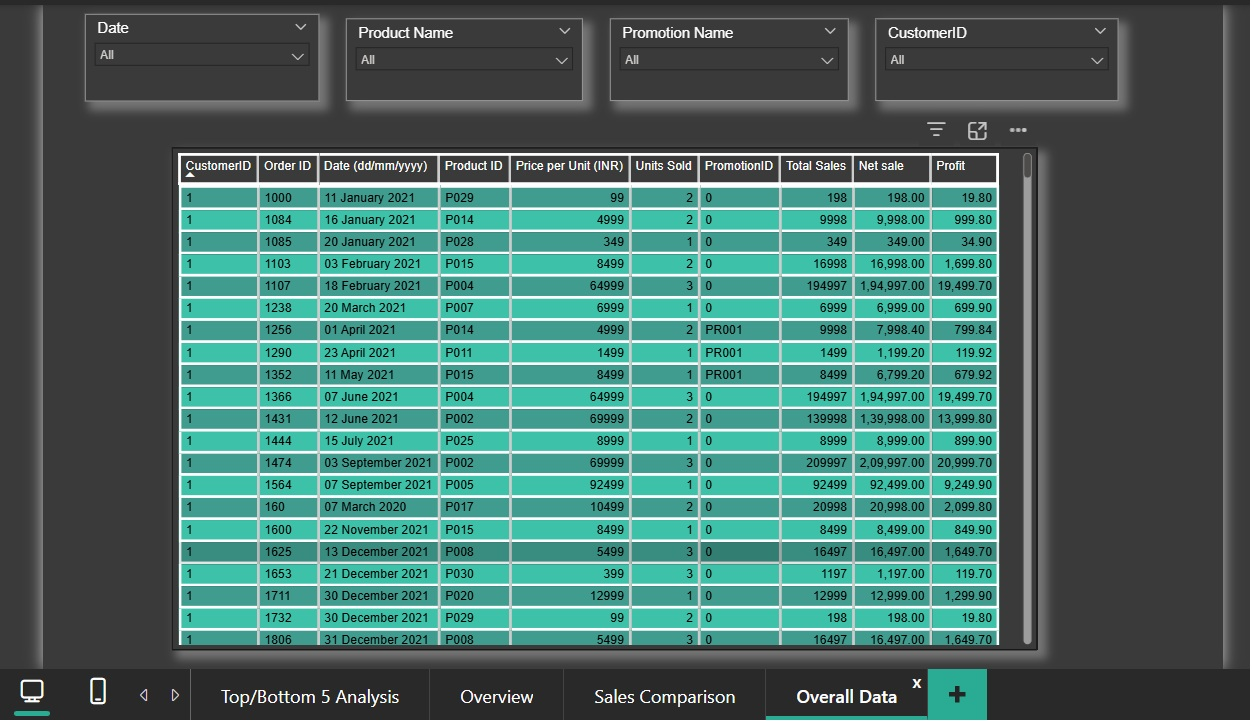

Layout of this report page (visuals, bound fields, positions):
{"tool":"powerbi","page":{"name":"Overall Data","canvas":[1280,720],"ordinal":3},"visuals":[{"type":"tableEx","fields":{"Values":["Fact Data.CustomerID","Fact Data.Order ID","Fact Data.Date (dd/mm/yyyy)","Fact Data.Product ID","Fact Data.Price per Unit (INR)","Fact Data.Units Sold","Fact Data.PromotionID","Fact Data.Total Sales","Fact Data.Net sale ","Fact Data.Profit"]},"box":[139.9,154.5,938.5,544.9],"z":0},{"type":"slicer","fields":{"Values":["Date Table 1.Date"]},"box":[45.5,9.8,253.7,94.3],"z":1000},{"type":"slicer","fields":{"Values":["Dim Product.Product Name"]},"box":[328.6,14.6,257,89.5],"z":2000},{"type":"slicer","fields":{"Values":["Dim Promotion.Promotion Name"]},"box":[614.8,14.6,258.6,89.5],"z":3000},{"type":"slicer","fields":{"Values":["Fact Data.CustomerID"]},"box":[902.7,14.6,263.5,89.5],"z":4000}]}

Visuals, with their boxes on the page's 1280x720 design canvas (x1, y1, x2, y2). These are canvas units, not pixel positions in the 1252x722 screenshot, which may show the page scaled, cropped or inside an application window:
tableEx - Fact Data.CustomerID x Fact Data.Order ID: [x1=140, y1=154, x2=1078, y2=699]
slicer - Date Table 1.Date: [x1=46, y1=10, x2=299, y2=104]
slicer - Dim Product.Product Name: [x1=329, y1=15, x2=586, y2=104]
slicer - Dim Promotion.Promotion Name: [x1=615, y1=15, x2=873, y2=104]
slicer - Fact Data.CustomerID: [x1=903, y1=15, x2=1166, y2=104]
